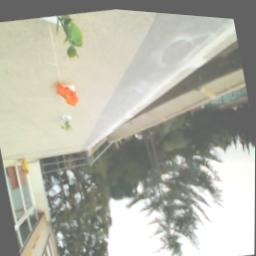herb: (53, 12, 89, 64), (61, 116, 75, 133)
wild: (55, 78, 82, 110)
